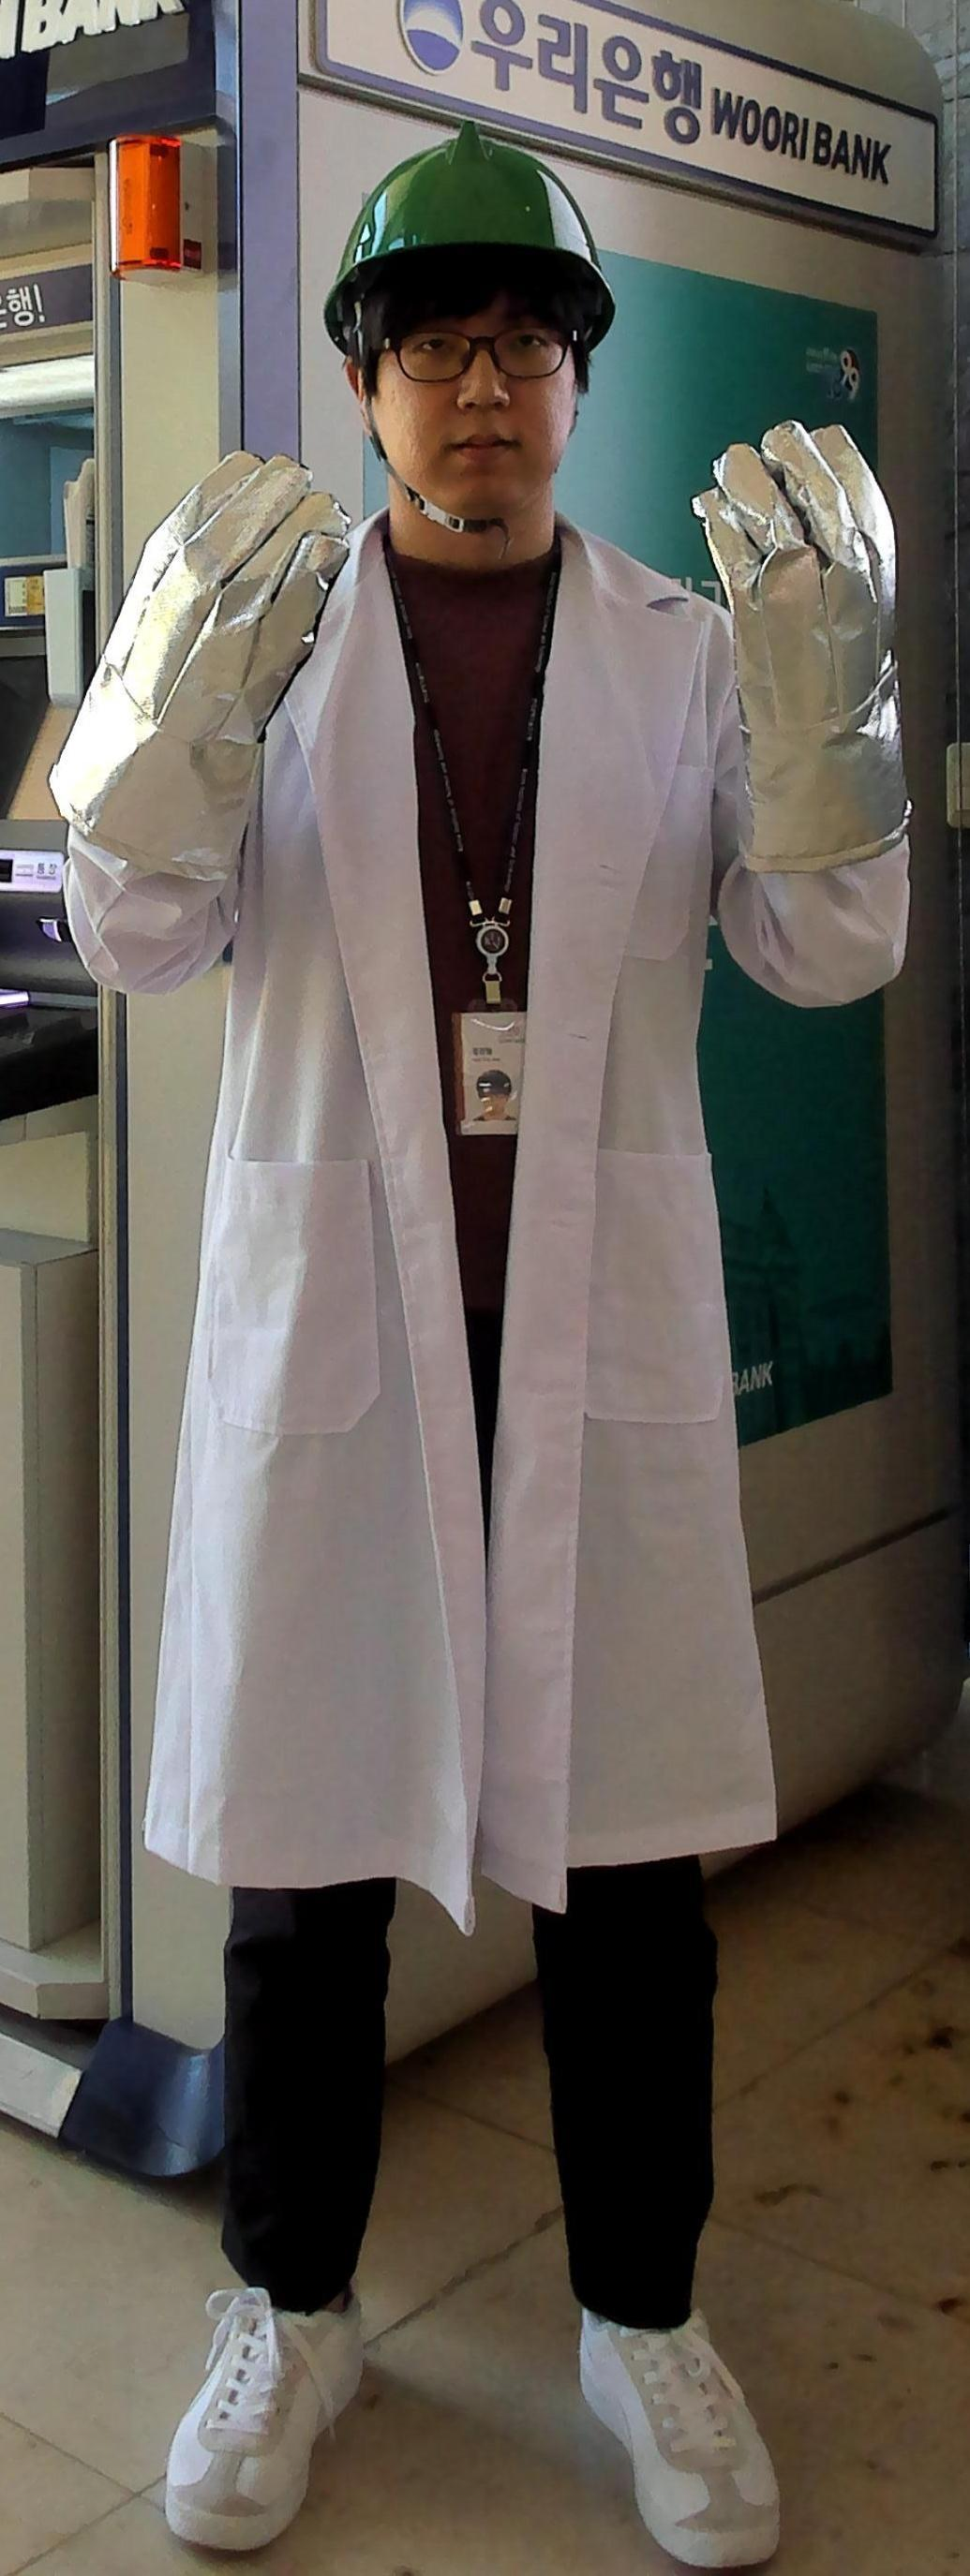lab_coat: (242, 690, 746, 1838)
